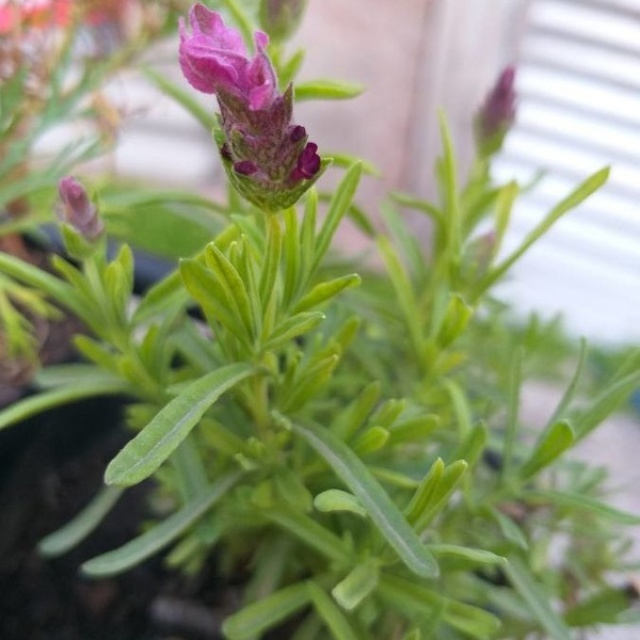obstacle: (115, 31, 378, 547)
